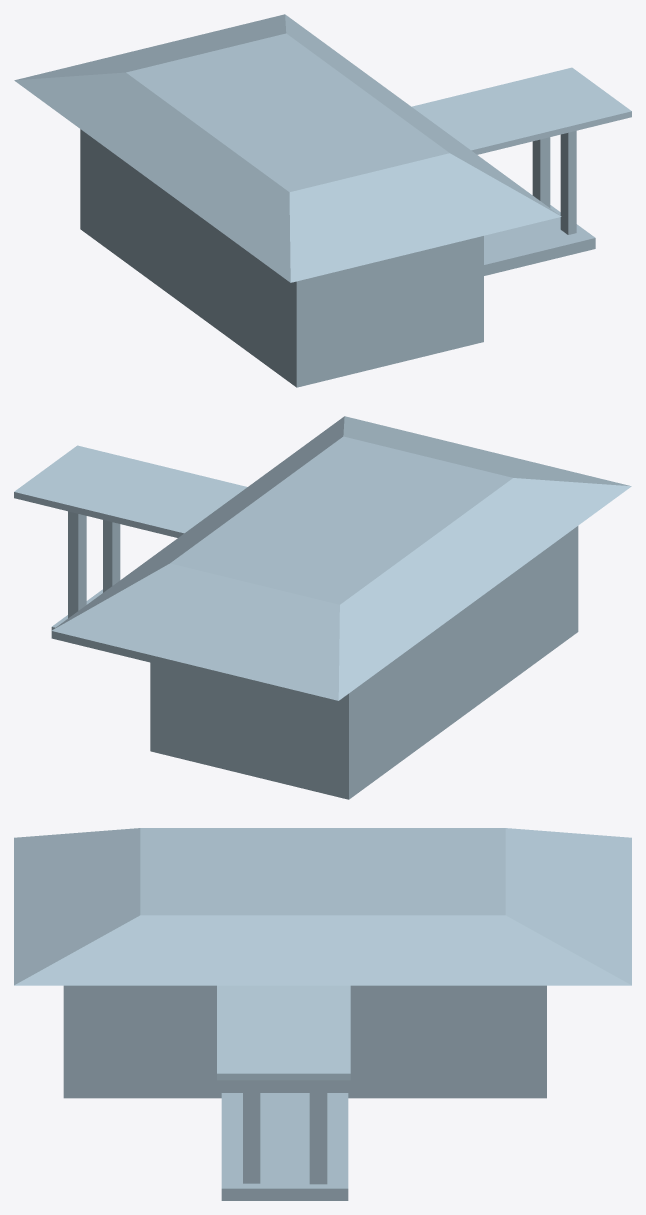
File: Housing9Nav.glb
3 views of the same model, one above another, from view 1: azimuth 30°, elevation 25°; view 2: azimuth 150°, elevation 25°; view 3: azimuth 270°, elevation 25° (orthographic). The views are drawn at different scales.
Visible parts, largest first — view 1: Cube.004, Cube, Cube.002, Cube.001, Cube.003; view 2: Cube.004, Cube, Cube.002, Cube.003, Cube.001; view 3: Cube.004, Cube, Cube.002, Cube.001, Cube.003.
Part boxes in pixels (<box>): Cube.004: <box>14,14,561,282</box>; Cube: <box>80,129,483,387</box>; Cube.002: <box>412,67,631,154</box>; Cube.001: <box>484,205,595,275</box>; Cube.003: <box>560,130,576,234</box>; Cube.004: <box>51,416,631,700</box>; Cube: <box>150,526,578,799</box>; Cube.002: <box>14,445,247,537</box>; Cube.003: <box>103,520,120,592</box>; Cube.001: <box>51,589,150,662</box>; Cube.004: <box>14,828,631,1184</box>; Cube: <box>63,985,546,1098</box>; Cube.002: <box>217,985,350,1080</box>; Cube.001: <box>221,1093,348,1200</box>; Cube.003: <box>243,1080,260,1183</box>.
Size of the model in its own units: 6.92 by 2.55 by 7.67.
